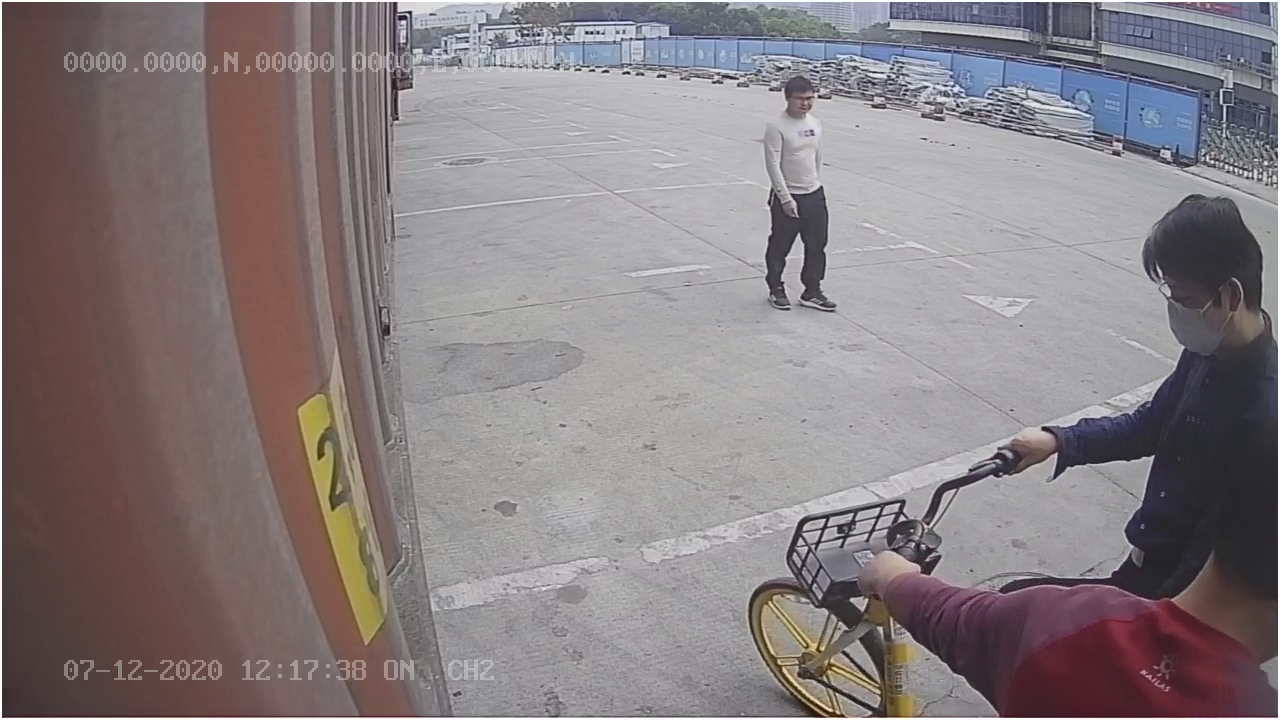person: (757, 73, 842, 311)
